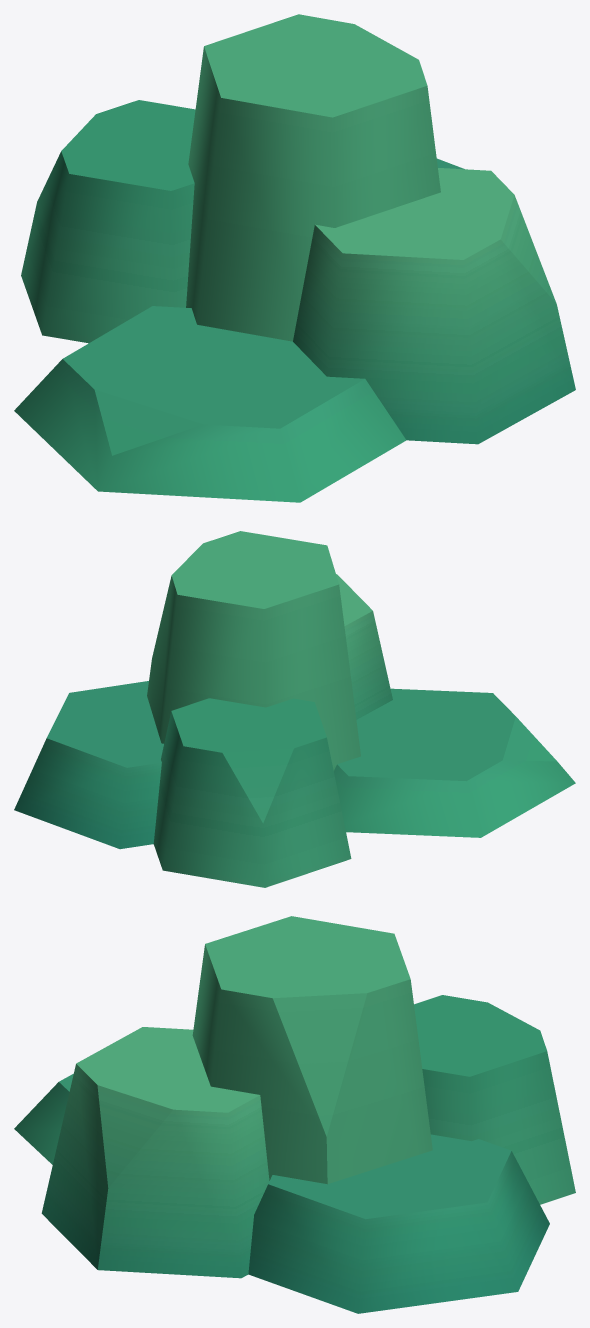
The model's file is kenney-tower-defense-detail-rocks-large.glb.
3 renders of one model, top to bottom at view 1: azimuth 30°, elevation 25°; view 2: azimuth 150°, elevation 25°; view 3: azimuth 270°, elevation 25°, orthographic. The views are drawn at different scales.
Visible parts, largest first — view 1: detail-rocks-large; view 2: detail-rocks-large; view 3: detail-rocks-large.
Part boxes in pixels (x1,y1,x2,y2): detail-rocks-large: [14, 14, 575, 502]; detail-rocks-large: [14, 531, 575, 887]; detail-rocks-large: [14, 916, 575, 1313].
Bounding box in the file's own units: 0.8922 × 0.4145 × 0.8593.
Materials: 1 (1 with a texture image).
